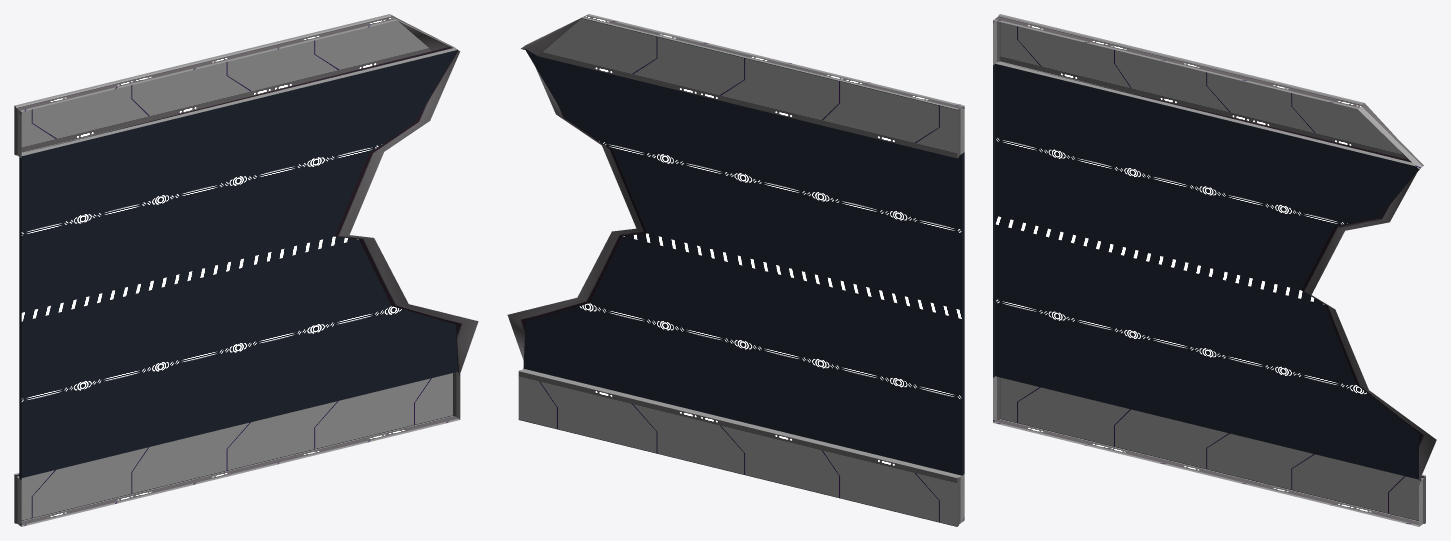
Rendered from SM_L_BRoad2.fbx.
3 views of the same model, side by side, from view 1: azimuth 30°, elevation 25°; view 2: azimuth 150°, elevation 25°; view 3: azimuth 330°, elevation 25° (orthographic). The views are drawn at different scales.
Visible parts, largest first — view 1: SM_L_BRoad2; view 2: SM_L_BRoad2; view 3: SM_L_BRoad2.
Boxes of the visible parts, x1,y1,x2,y2 form: SM_L_BRoad2: [14, 14, 478, 526]; SM_L_BRoad2: [507, 14, 964, 526]; SM_L_BRoad2: [993, 14, 1436, 526].
Bounding box in the file's own units: 5644 × 4923 × 155.
